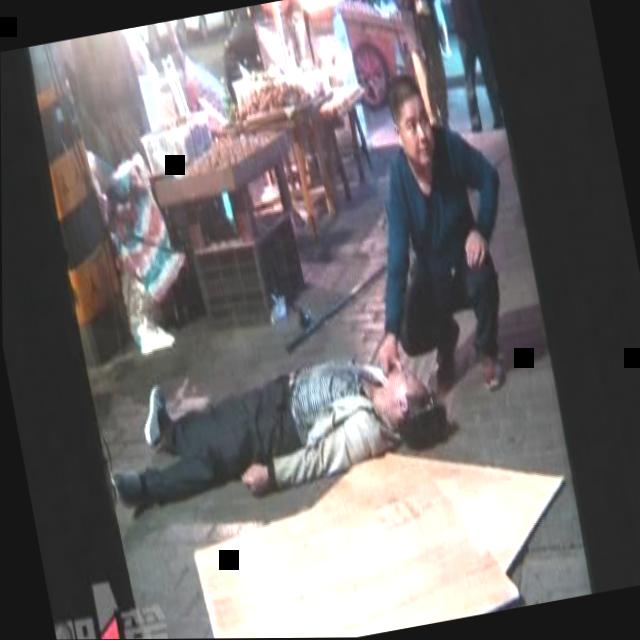Fall-Detected: (90, 305, 471, 547)
